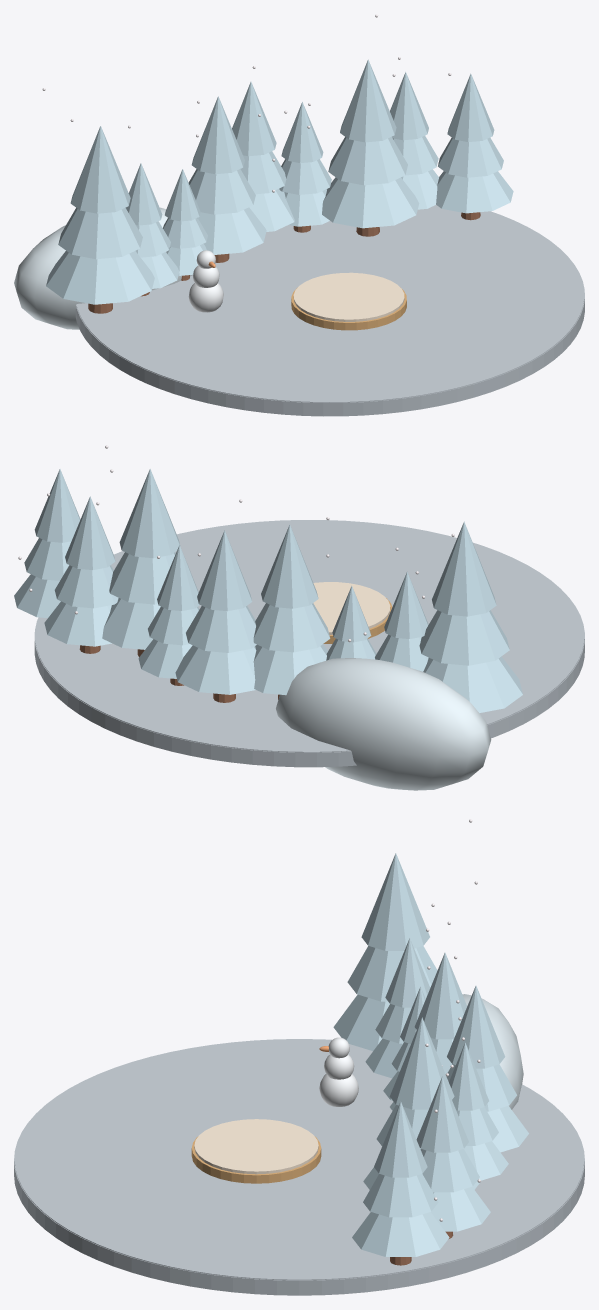
The model's file is neve.glb.
3 renders of one model, top to bottom at view 1: azimuth 30°, elevation 25°; view 2: azimuth 150°, elevation 25°; view 3: azimuth 270°, elevation 25°, orthographic. The views are drawn at different scales.
Visible parts, largest first — view 1: Diorama piping.011, Diorama base.011, Pine crown.027, Look pedestal.011, Pine crown.045, Rolling terrain, Pine crown.028, Pine crown.029, Pine crown.046, Pine crown.047, Pine crown.051, Pine crown.038 (+21 smaller); view 2: Diorama piping.011, Rolling terrain, Diorama base.011, Pine crown.028, Pine crown.029, Pine crown.027, Pine crown.039, Pine crown.047, Pine crown.037, Pine crown.038, Pine crown.040, Pine crown.041 (+17 smaller); view 3: Diorama piping.011, Diorama base.011, Look pedestal.011, Pine crown.029, Pine crown.051, Pine crown.047, Pine crown.052, Pine crown.038, Pine crown.041, Pine crown.028, Pine crown.053, Pine crown.050 (+16 smaller).
Boxes of the visible parts, bbox=[...] form: Diorama piping.011: bbox=[76, 205, 584, 402]; Diorama base.011: bbox=[75, 266, 584, 416]; Pine crown.027: bbox=[46, 251, 154, 304]; Look pedestal.011: bbox=[293, 272, 404, 321]; Pine crown.045: bbox=[322, 177, 419, 228]; Rolling terrain: bbox=[14, 207, 192, 329]; Pine crown.028: bbox=[58, 207, 142, 259]; Pine crown.029: bbox=[70, 126, 130, 213]; Pine crown.046: bbox=[328, 137, 407, 185]; Pine crown.047: bbox=[340, 59, 396, 142]; Pine crown.051: bbox=[436, 171, 513, 213]; Pine crown.038: bbox=[191, 96, 244, 174]; Diorama piping.011: bbox=[35, 520, 584, 752]; Rolling terrain: bbox=[276, 658, 491, 790]; Diorama base.011: bbox=[34, 598, 584, 767]; Pine crown.028: bbox=[419, 610, 509, 665]; Pine crown.029: bbox=[432, 521, 496, 616]; Pine crown.027: bbox=[423, 656, 522, 712]; Pine crown.039: bbox=[175, 645, 256, 694]; Pine crown.047: bbox=[119, 469, 180, 558]; Pine crown.037: bbox=[253, 603, 330, 652]; Pine crown.038: bbox=[261, 524, 318, 608]; Pine crown.040: bbox=[186, 606, 256, 652]; Pine crown.041: bbox=[197, 530, 252, 611]; Diorama piping.011: bbox=[14, 1039, 584, 1280]; Diorama base.011: bbox=[14, 1123, 584, 1295]; Look pedestal.011: bbox=[194, 1119, 318, 1174]; Pine crown.029: bbox=[361, 853, 429, 950]; Pine crown.051: bbox=[352, 1212, 449, 1256]; Pine crown.047: bbox=[389, 1017, 454, 1109]; Pine crown.052: bbox=[363, 1174, 438, 1217]; Pine crown.038: bbox=[414, 952, 466, 1039]; Pine crown.041: bbox=[447, 985, 505, 1068]; Pine crown.028: bbox=[347, 946, 437, 1001]; Pine crown.053: bbox=[374, 1101, 427, 1177]; Pine crown.050: bbox=[416, 1076, 468, 1152].
Size of what is drawn, in the model's own units: 9.02 by 4.65 by 8.64.
